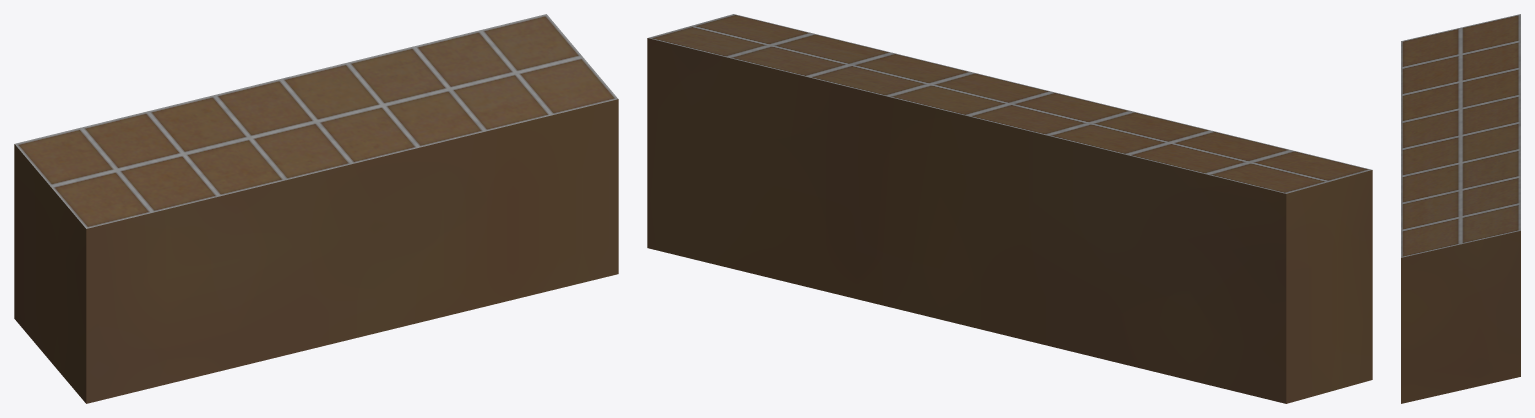
File: set_floor_02_slope_end.fbx
3 renders of one model, left to right at view 1: azimuth 30°, elevation 25°; view 2: azimuth 150°, elevation 25°; view 3: azimuth 270°, elevation 25°, orthographic. The views are drawn at different scales.
Parts seen in each view (by area): view 1: set_floor_02_slope_end; view 2: set_floor_02_slope_end; view 3: set_floor_02_slope_end.
Boxes of the visible parts, box(x1,y1,x2,y2) form: set_floor_02_slope_end: box(14, 14, 618, 403); set_floor_02_slope_end: box(647, 14, 1372, 403); set_floor_02_slope_end: box(1401, 14, 1520, 403).
Size of the model in its own units: 200 by 74.53 by 46.77.
